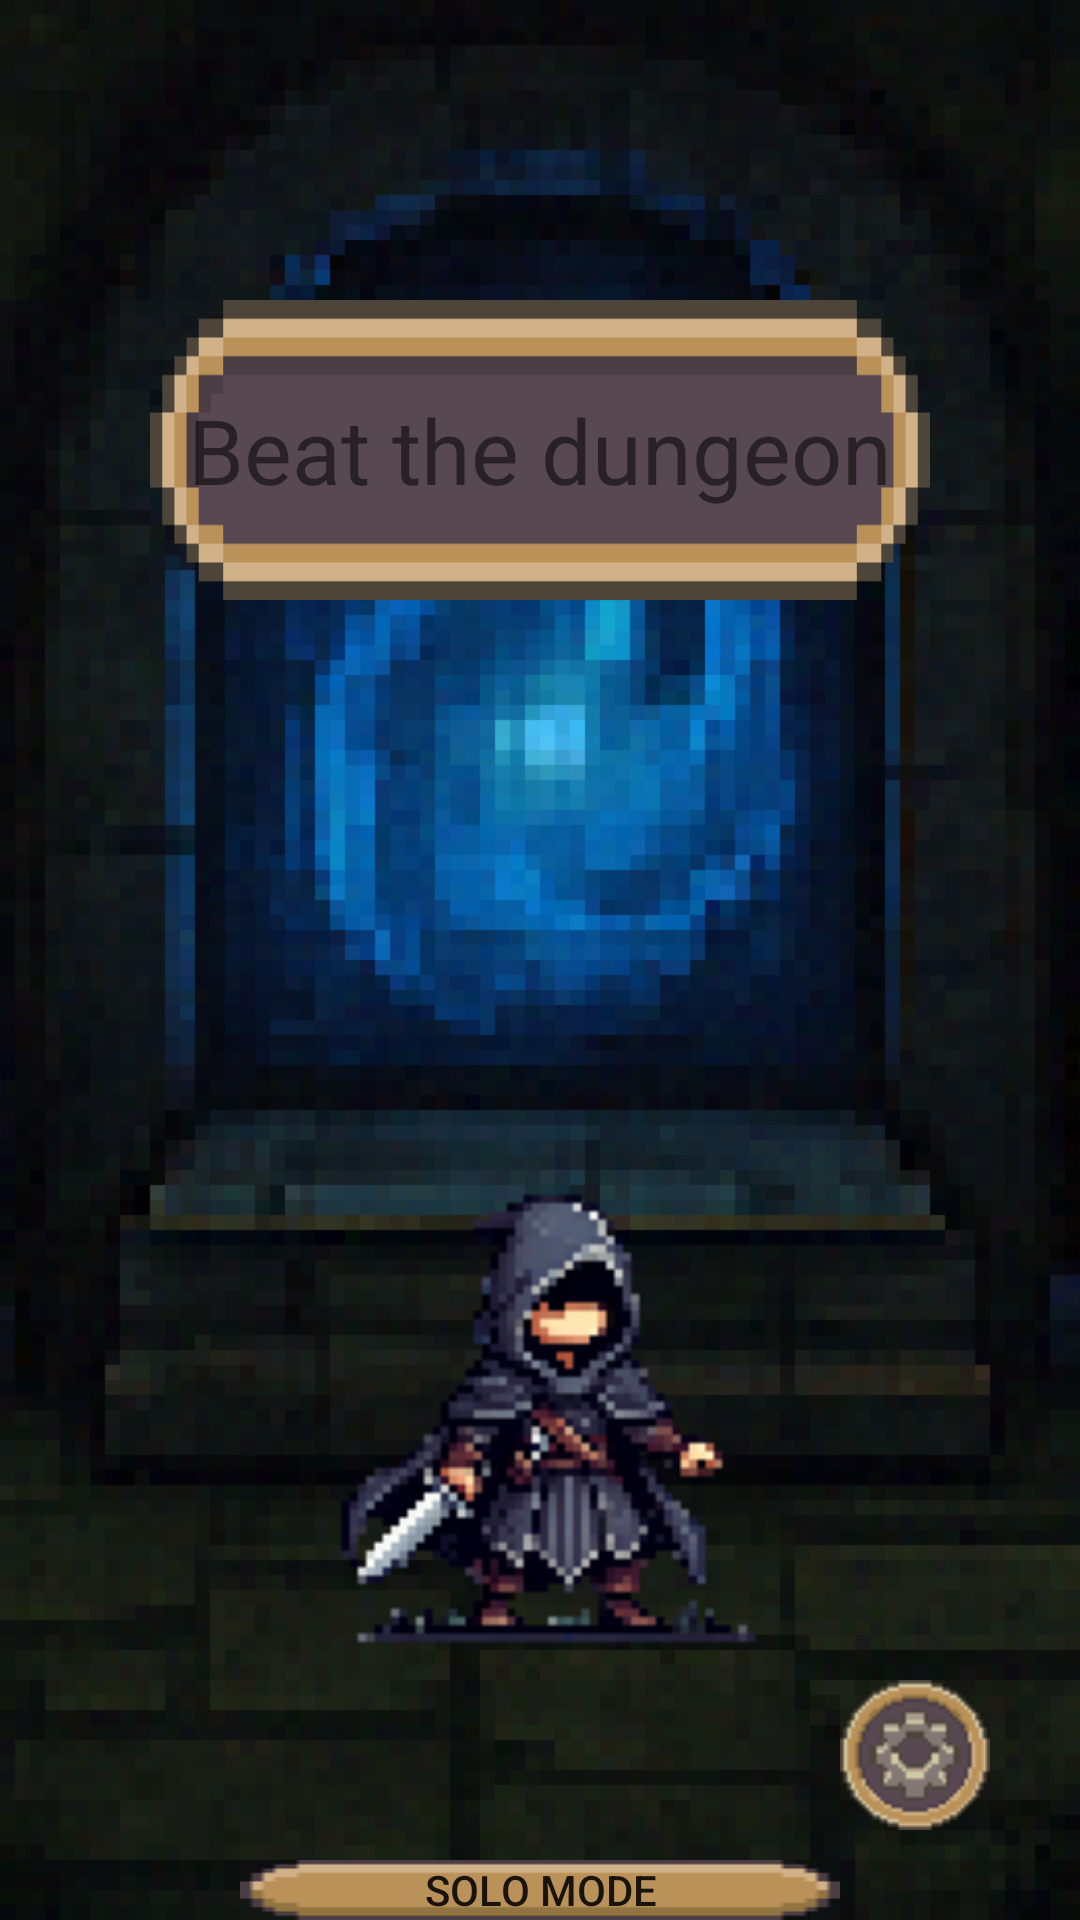

Icon bounding boxes for this 1080px x 1920px phone screenshot, format (x1, y1, x2, y2):
parameters: (840, 1680, 990, 1830)
